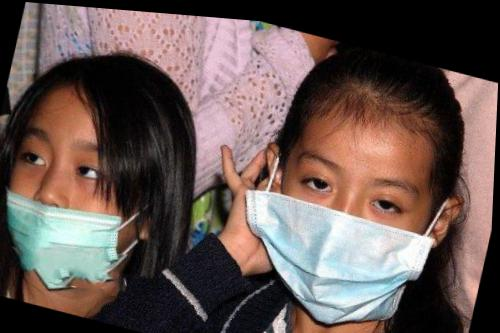OK: (260, 118, 438, 327)
WRONG: (1, 108, 148, 299)
